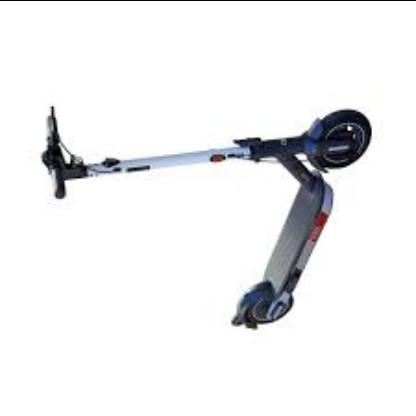bike: (38, 106, 375, 332), (143, 107, 373, 332), (212, 108, 372, 331)
